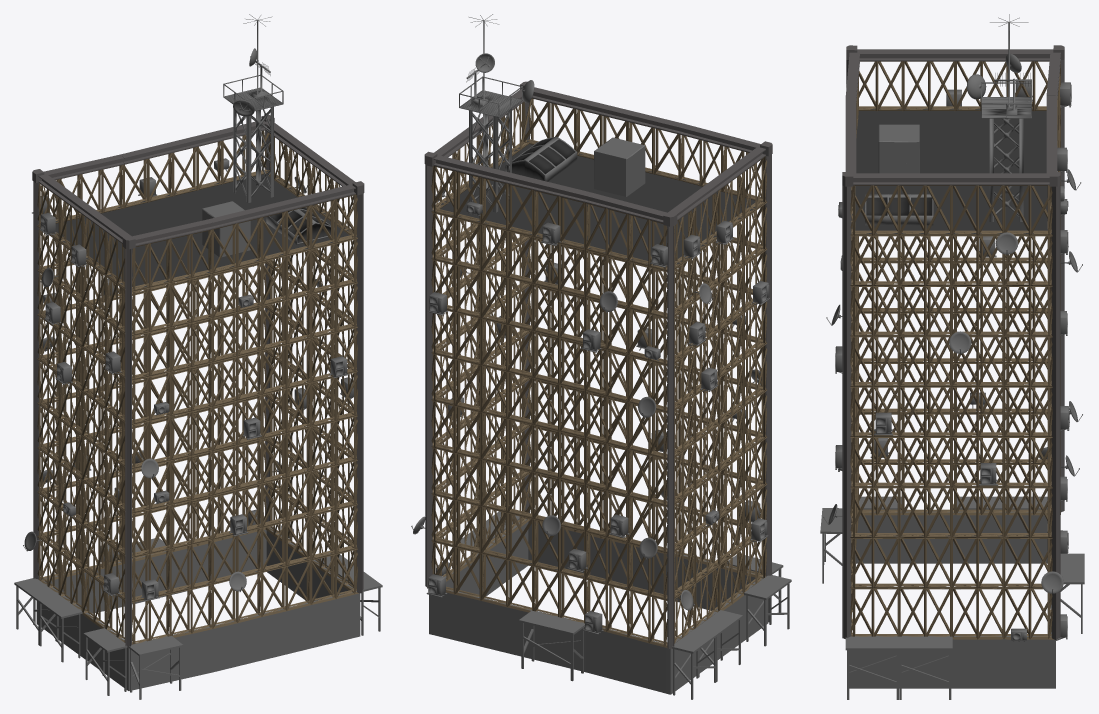
File: constructionbuilding.fbx
The picture shows the model from 3 angles, left to right: view 1: azimuth 30°, elevation 25°; view 2: azimuth 150°, elevation 25°; view 3: azimuth 270°, elevation 25°; orthographic projection. The views are drawn at different scales.
Parts seen in each view (by area): view 1: building_base.002; view 2: building_base.002; view 3: building_base.002.
Boxes of the visible parts, box(x1,y1,x2,y2) form: building_base.002: box(14, 14, 382, 699); building_base.002: box(411, 14, 791, 699); building_base.002: box(820, 14, 1084, 699).
Bounding box in the file's own units: 1934 × 3868 × 1426.
